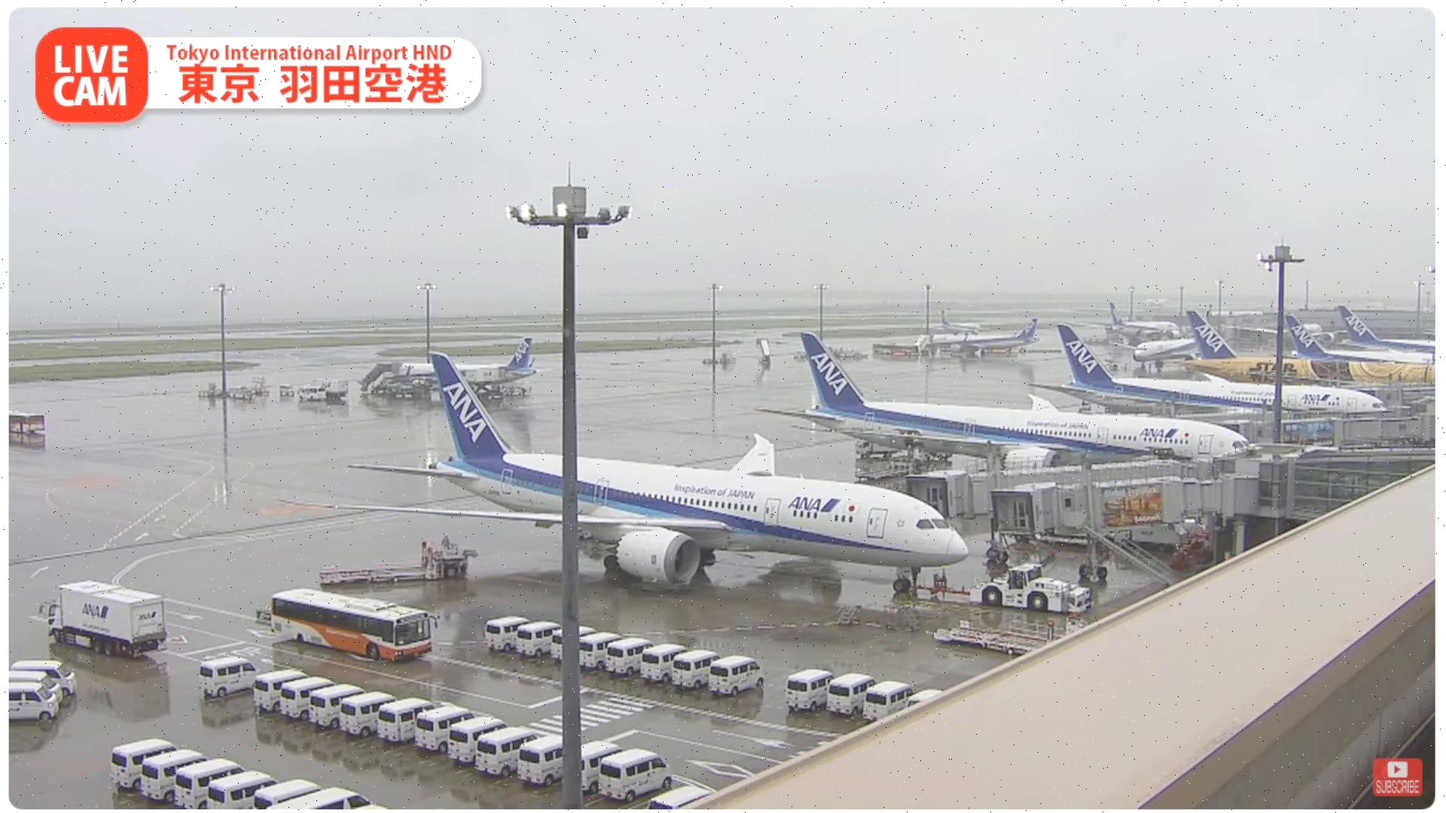APS: (968, 562, 1094, 614)
Aerobridge: (904, 455, 1210, 520), (991, 474, 1261, 535)
Airplane: (270, 351, 970, 592)
JCPL: (319, 533, 478, 588), (924, 615, 1087, 656)
Window: (1292, 458, 1433, 516)
